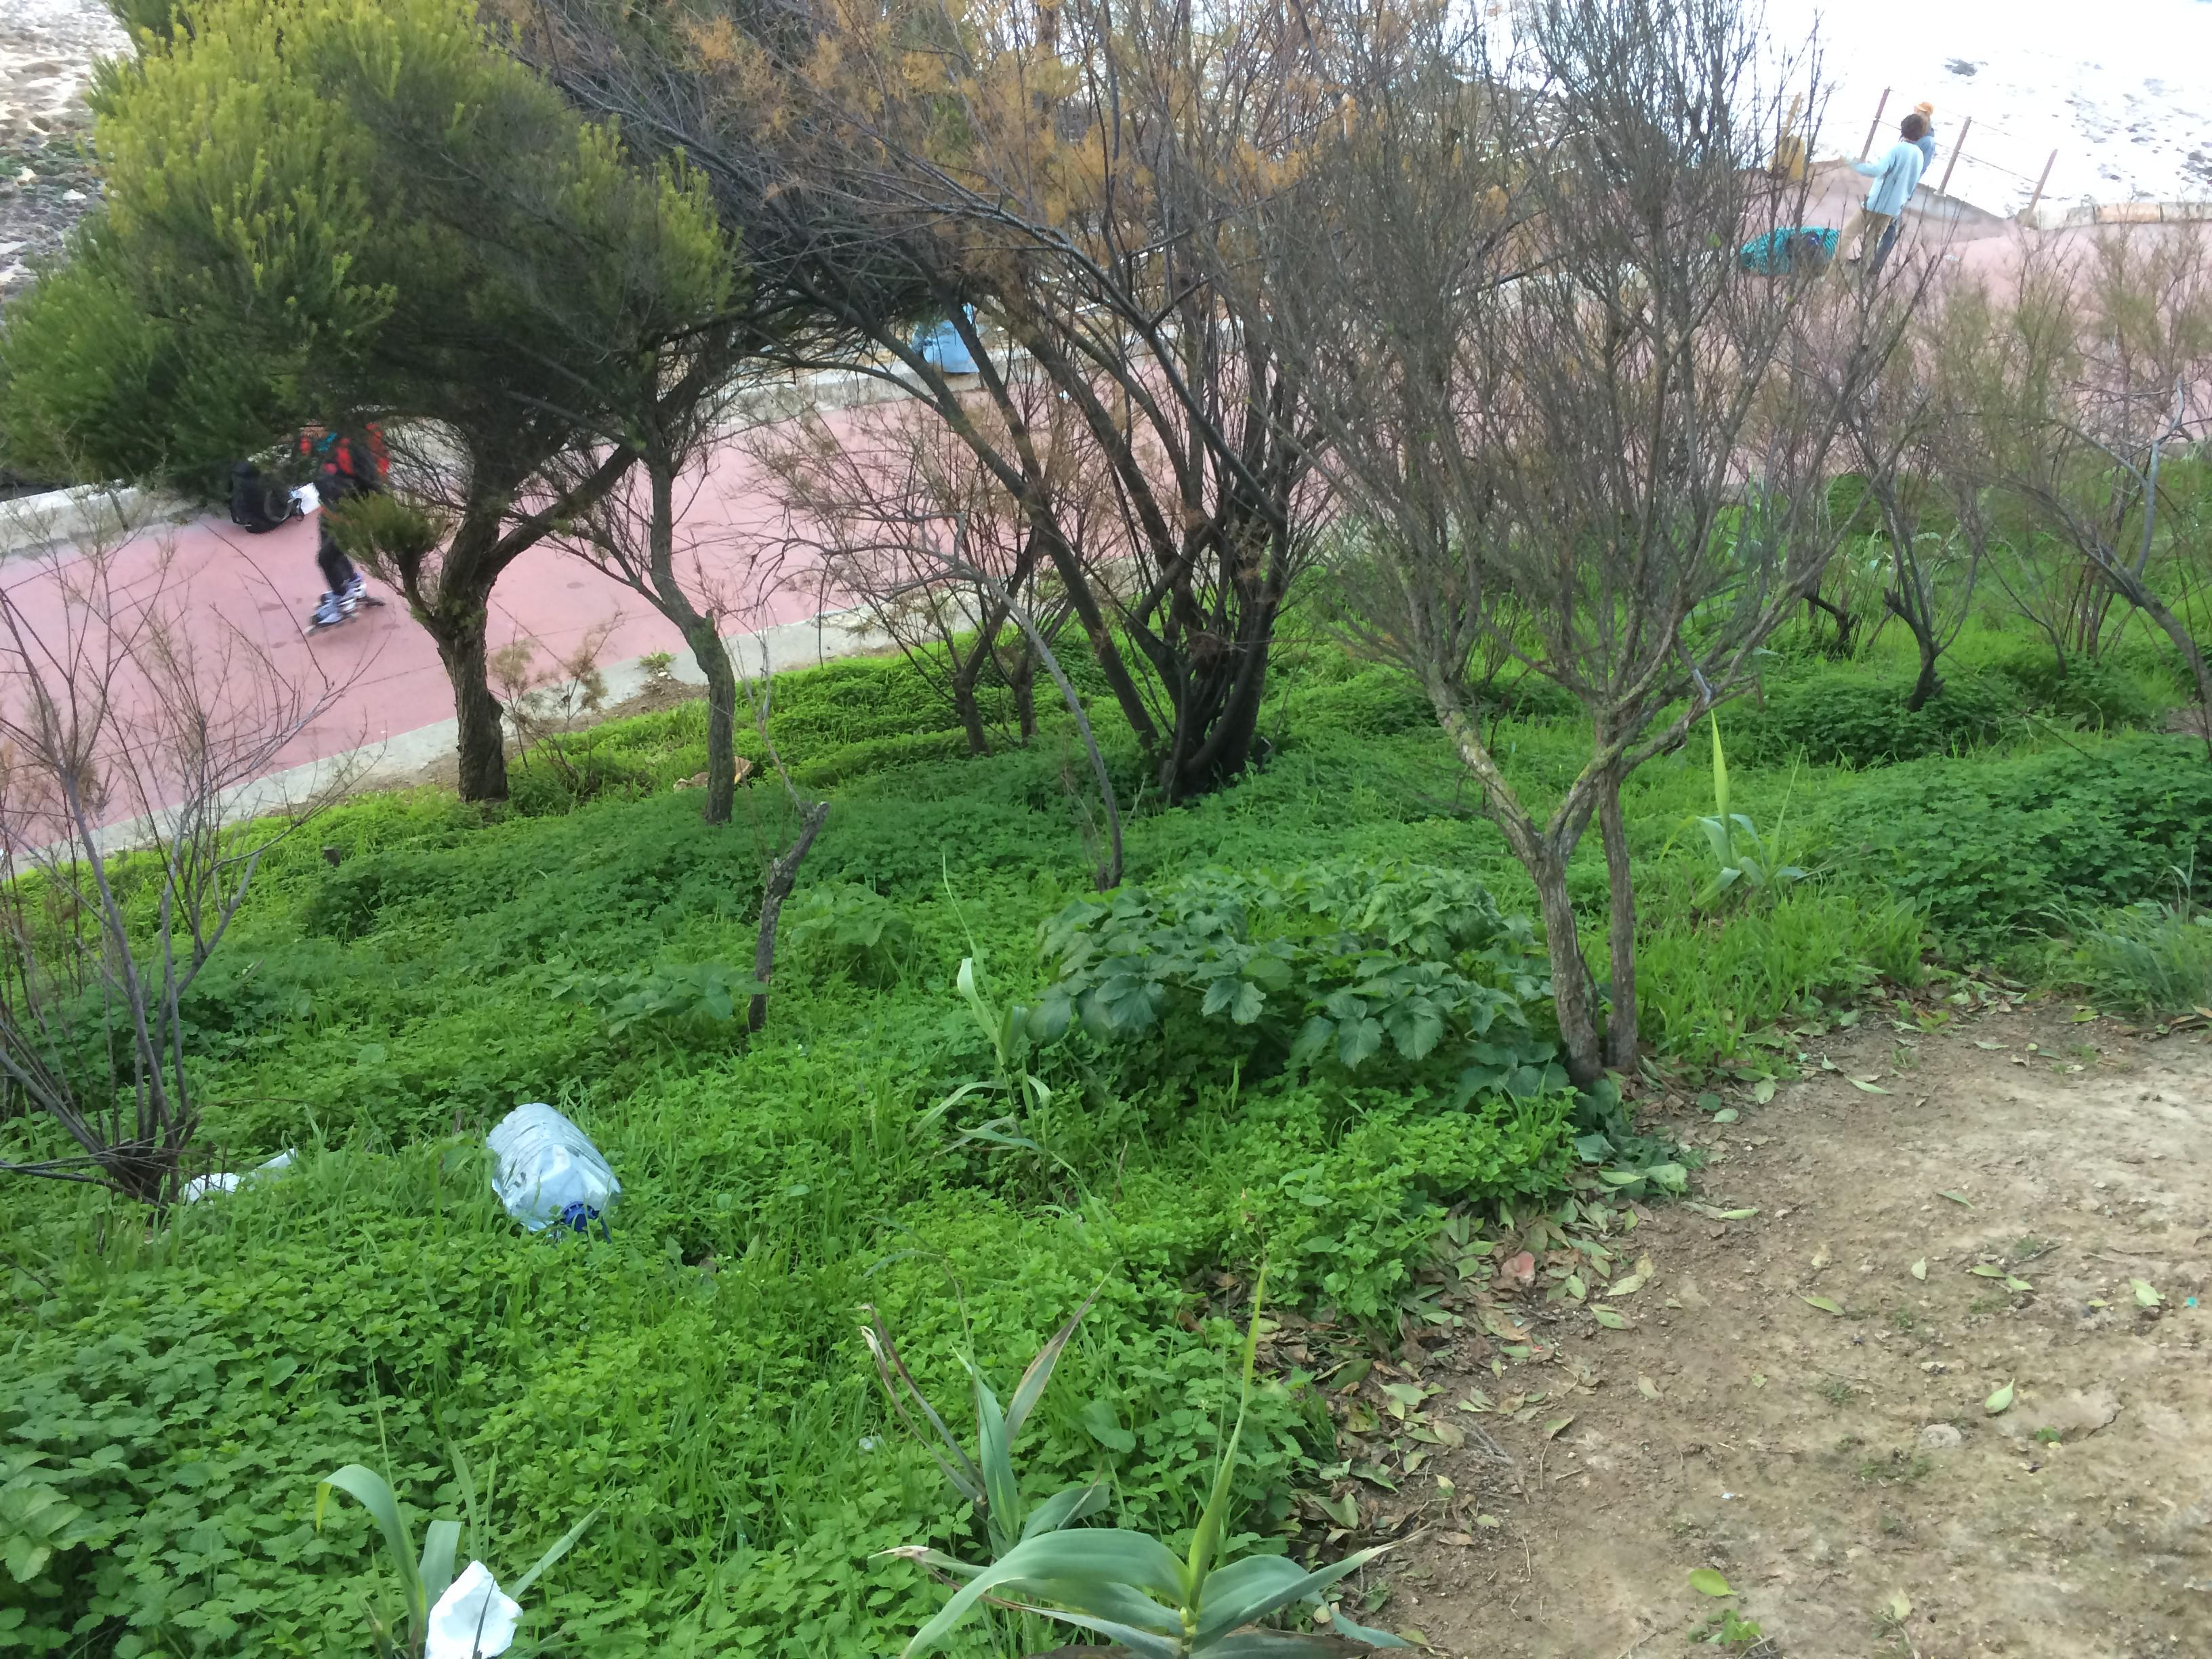Trash: (468, 1103, 624, 1250), (424, 1553, 508, 1655), (174, 1153, 309, 1216)
